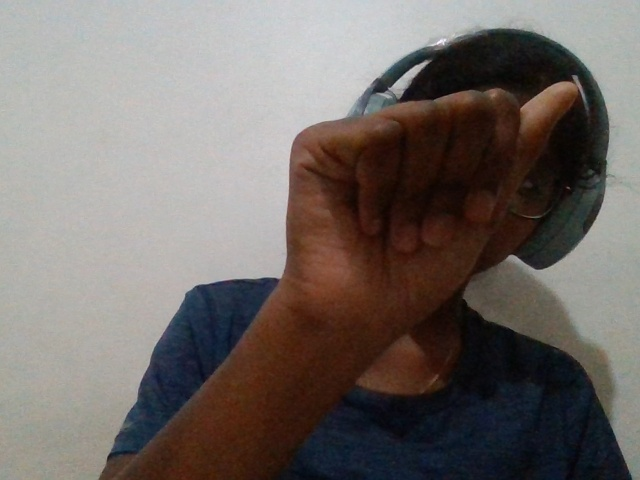A: (244, 66, 605, 378)
